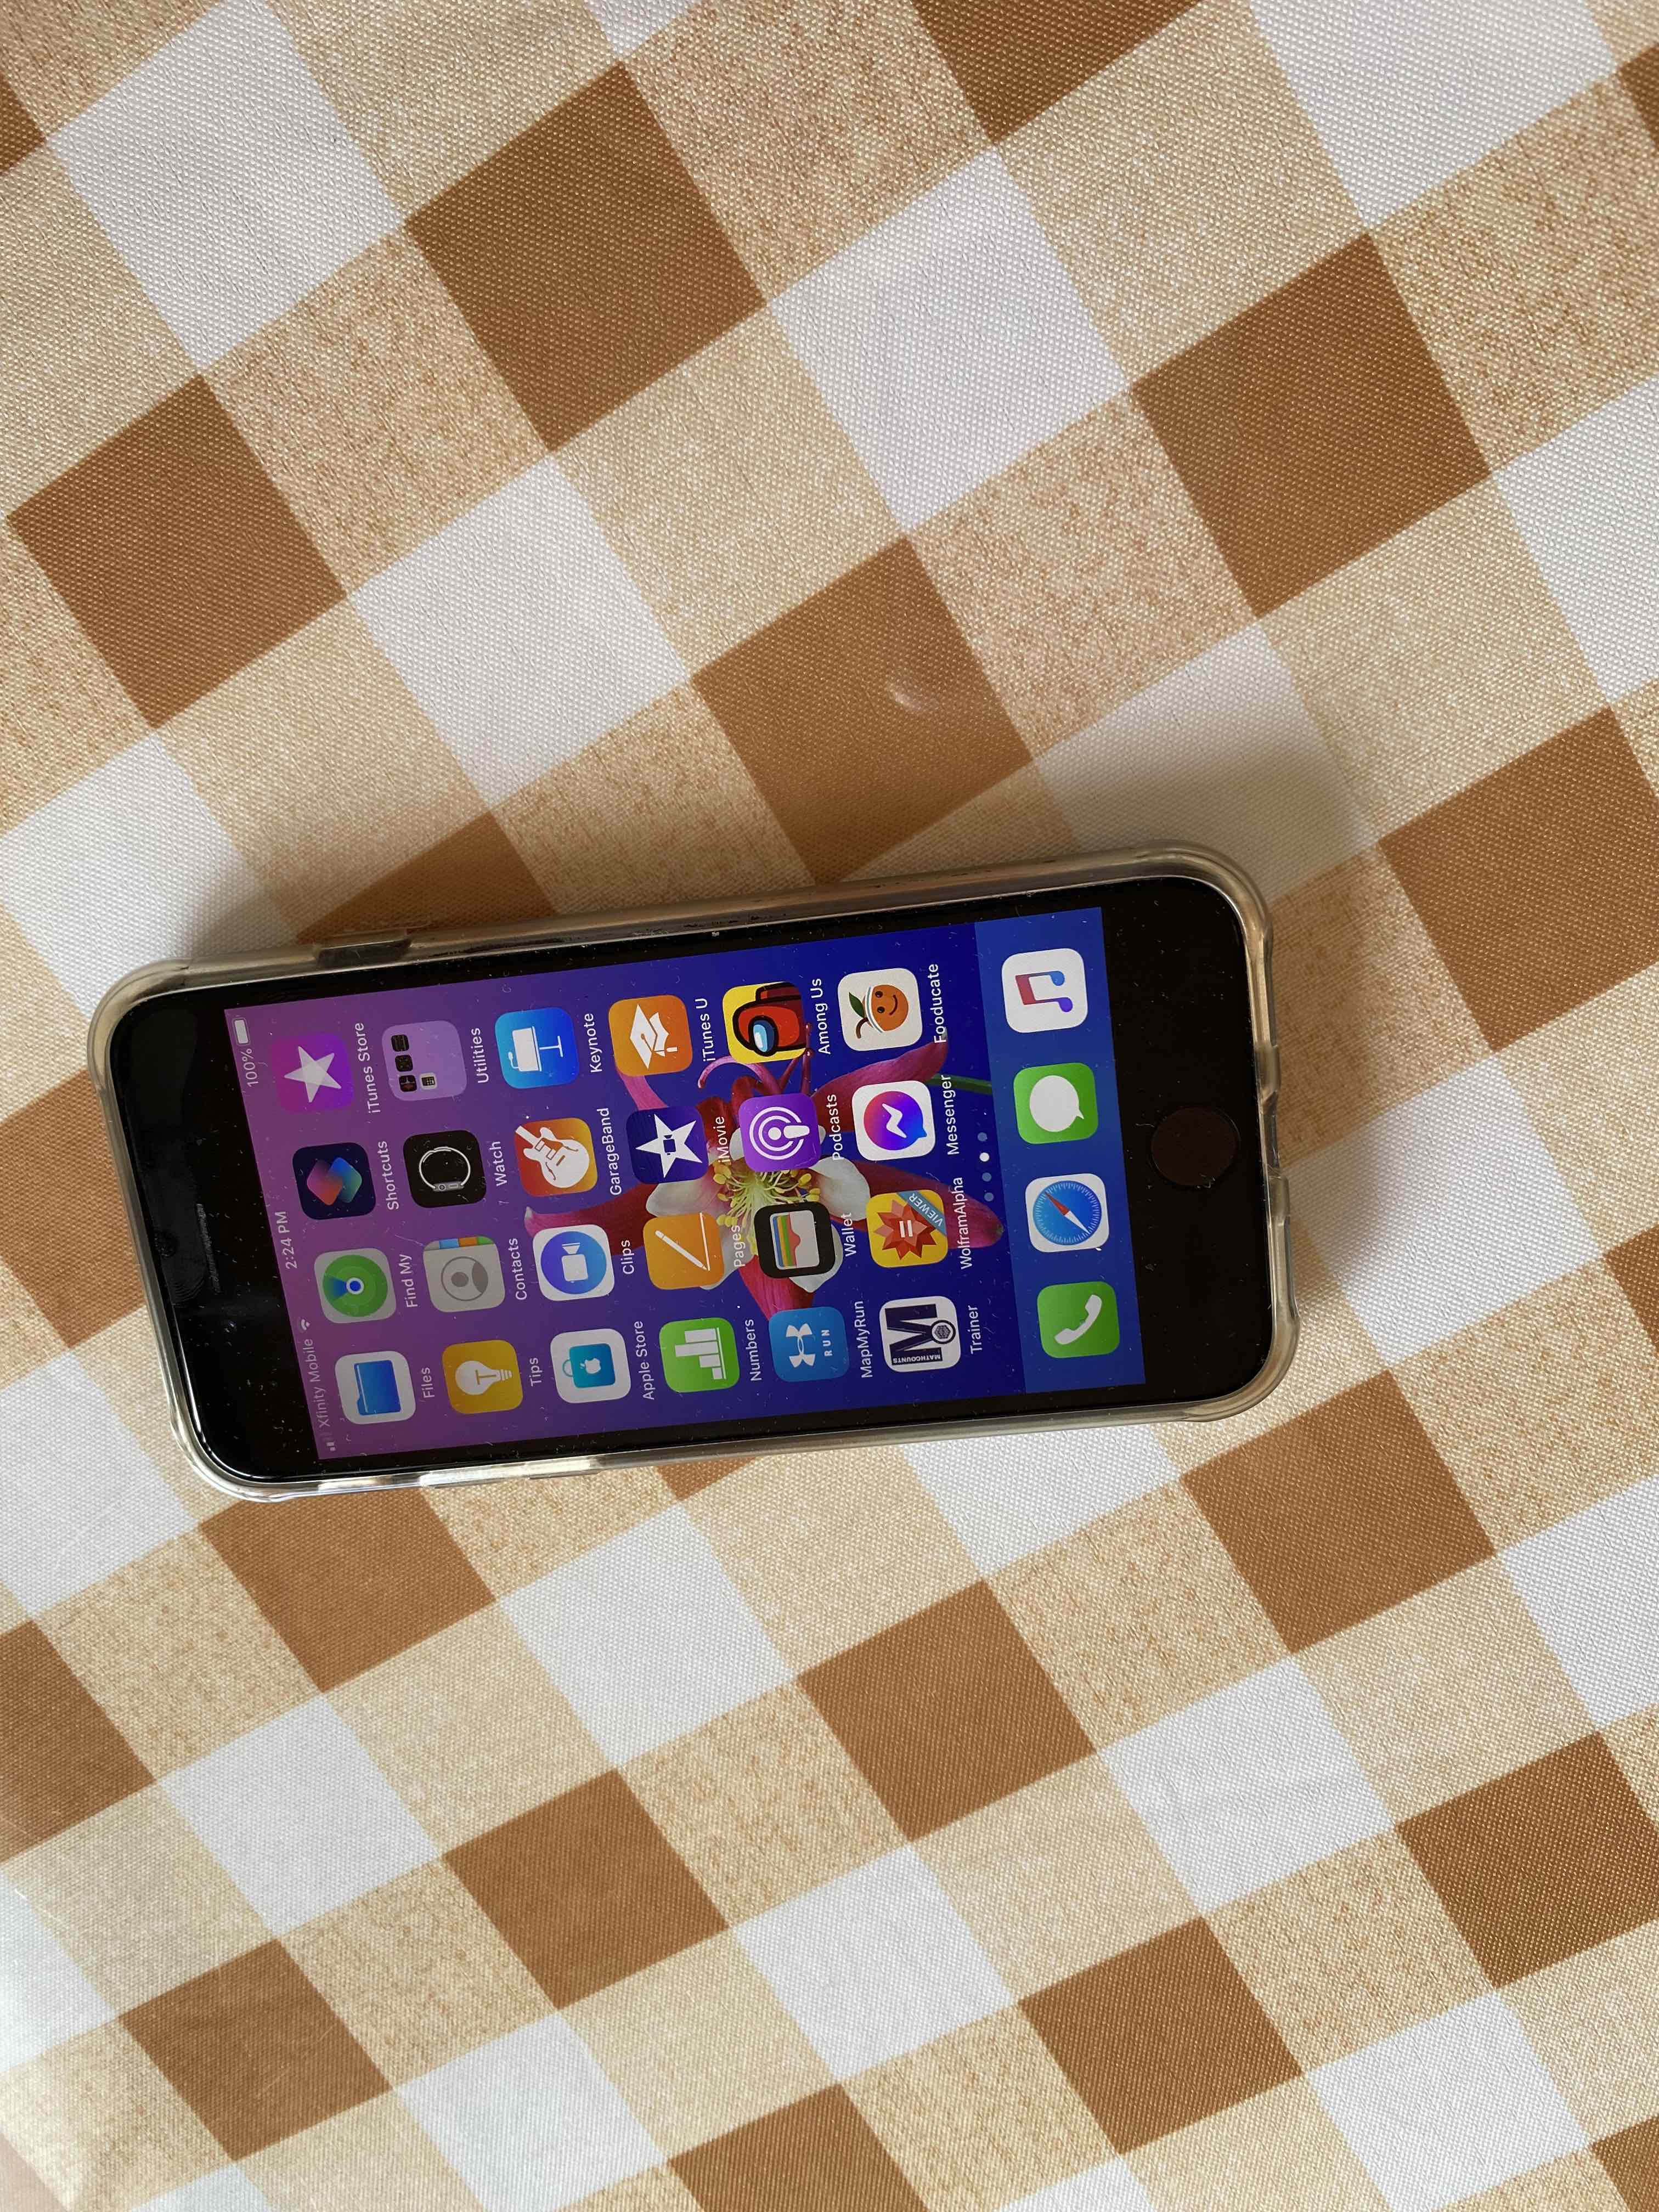Cell Phone: (91, 841, 1298, 1503)
